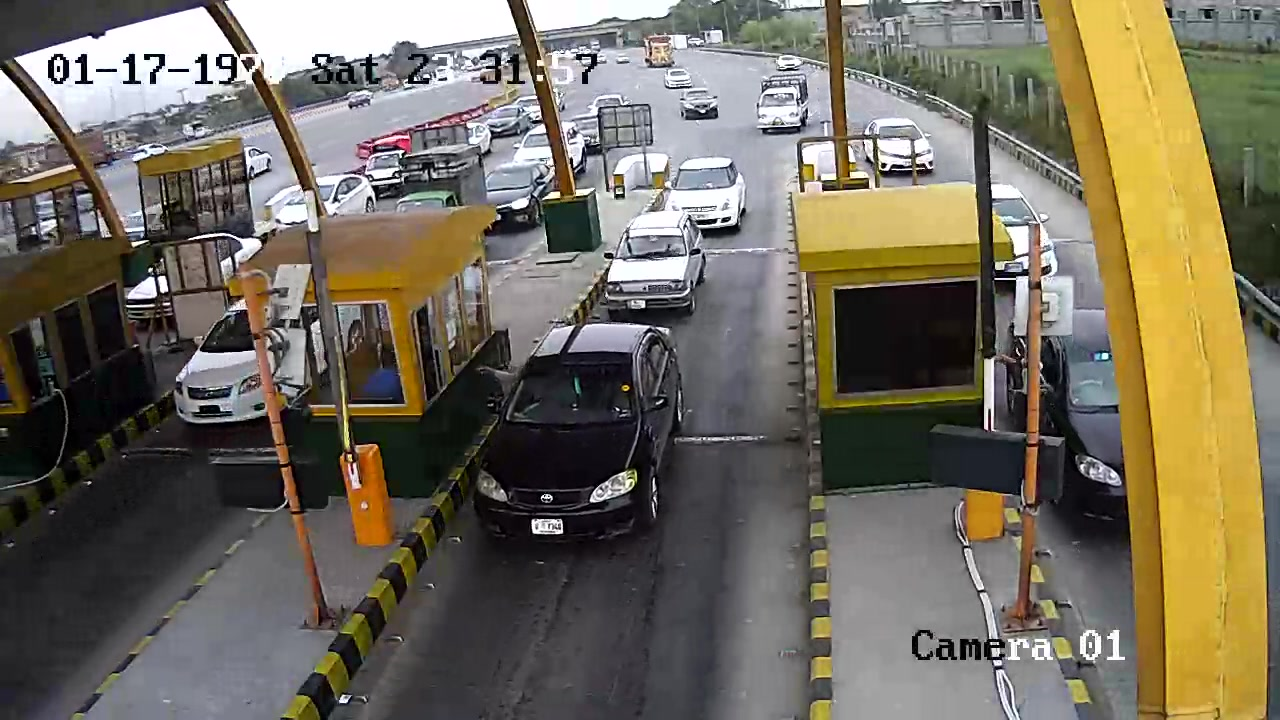F1: (461, 322, 713, 562)
